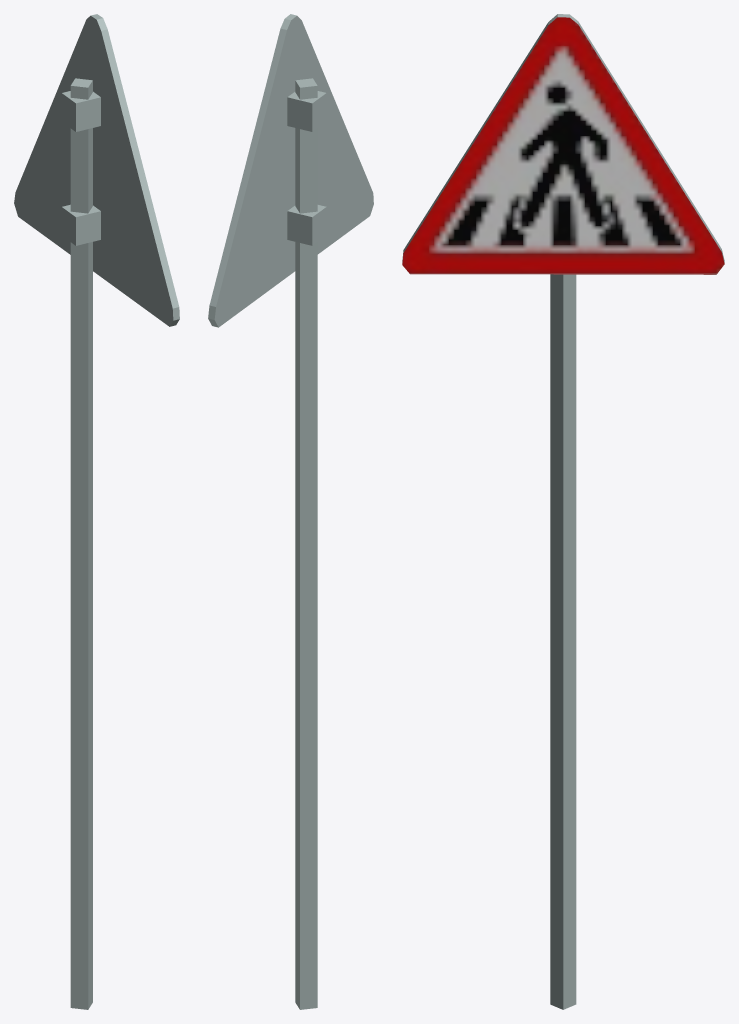
File: road traffic sign.fbx
3 renders of one model, left to right at view 1: azimuth 30°, elevation 25°; view 2: azimuth 150°, elevation 25°; view 3: azimuth 270°, elevation 25°, orthographic.
Parts seen in each view (by area): view 1: sign cycle form; view 2: sign cycle form; view 3: sign cycle form.
Part boxes in pixels (x1,y1,x2,y2): sign cycle form: (14,14,179,1009); sign cycle form: (208,14,373,1009); sign cycle form: (402,14,724,1009).
Size of the model in its own units: 6.47 by 192 by 56.42.
